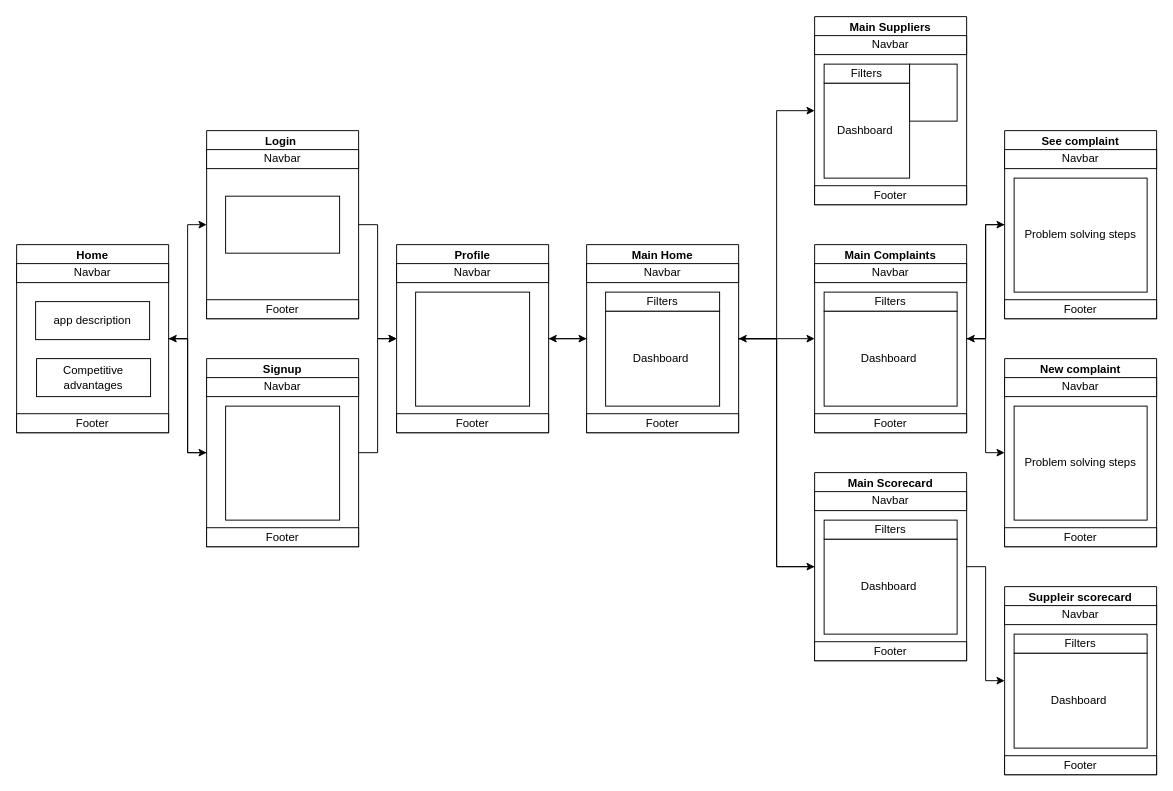
The diagram is 1173 pixels wide and 791 high, and some of its shapes have lost their labels. The centre of each missing label's shape, as x and y in pixels:
"Form" belongs at [282,224].
"Form Add supplier" belongs at [933,92].
"Form Org name Add user & role" belongs at [472,348].
"Form Org name Main User Payment" belongs at [282,462].
